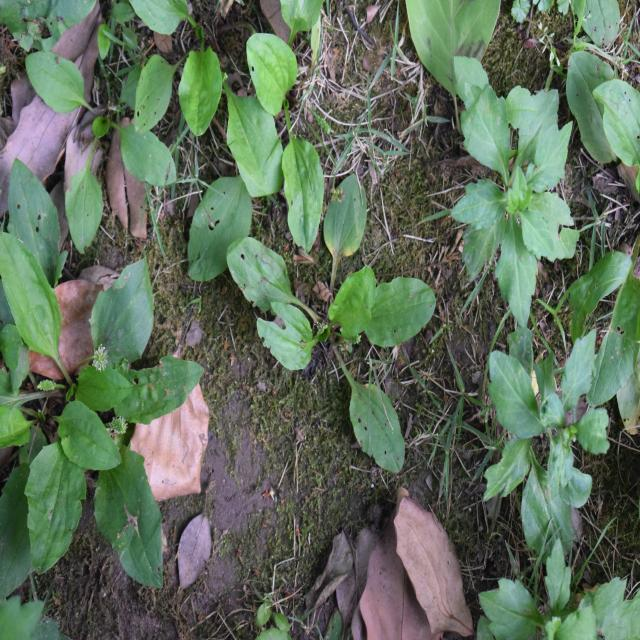plantain: (0, 244, 192, 590), (228, 202, 462, 469)
